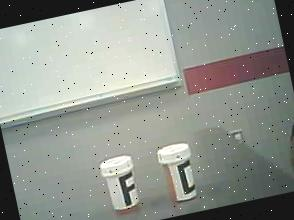Bottle D: (151, 134, 207, 214)
Bottle F: (92, 148, 148, 220)
